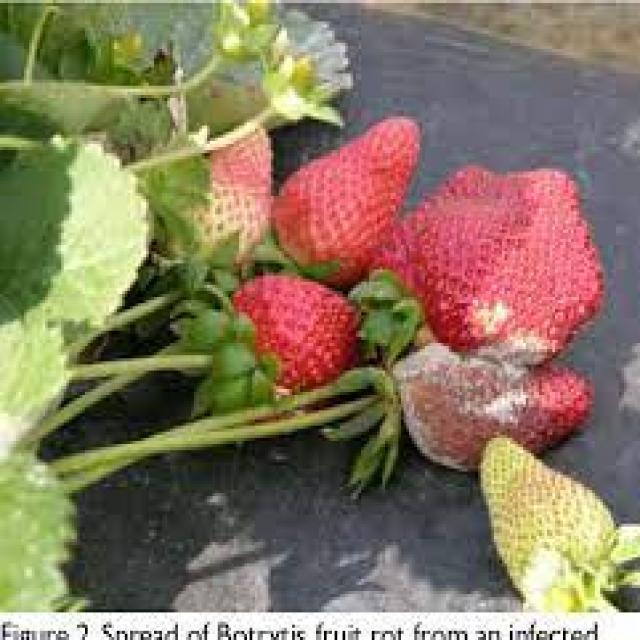Fruta sana: (279, 100, 422, 284), (216, 274, 362, 427), (182, 109, 272, 262)
Oído: (392, 163, 594, 364)
